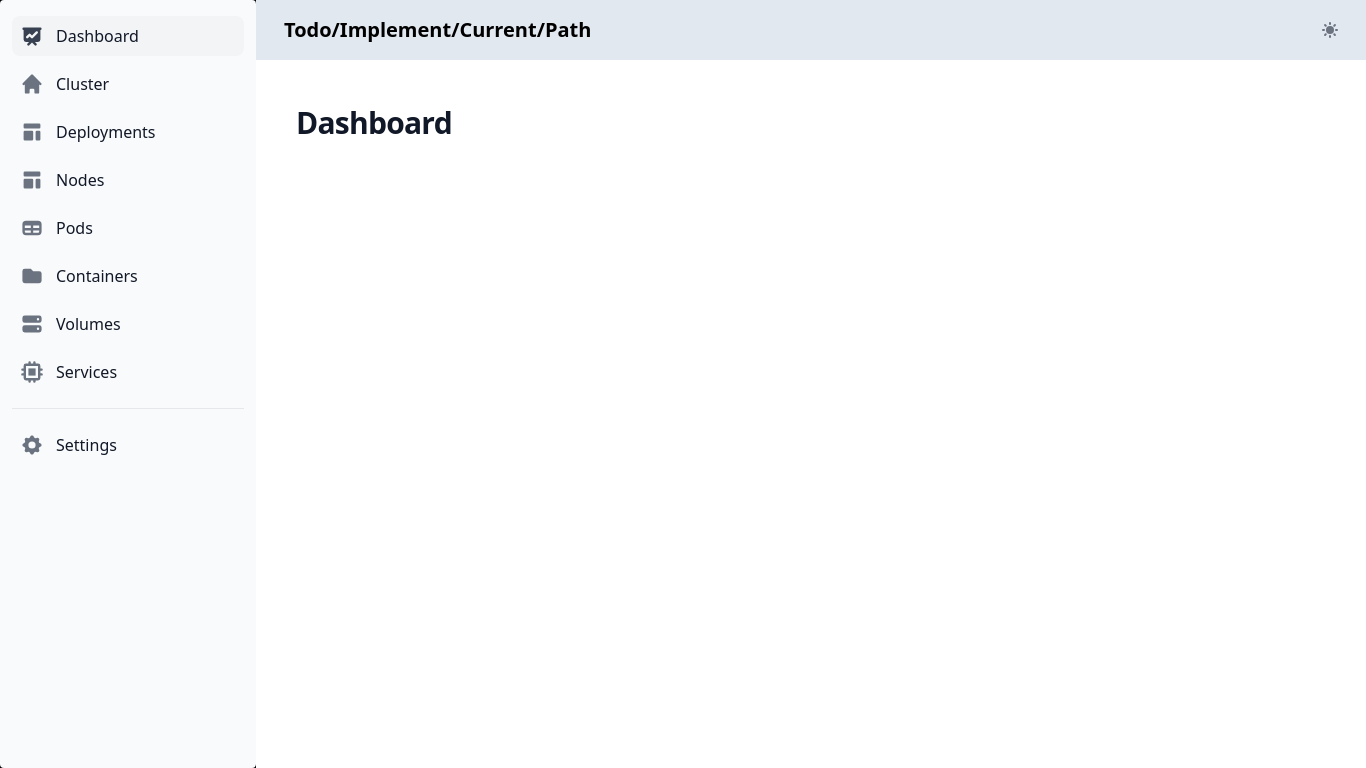
Test: Sidebar › Should navigate to the containers page
Step 1. Click the link "Containers" → (79, 276), box [20,264,138,288]
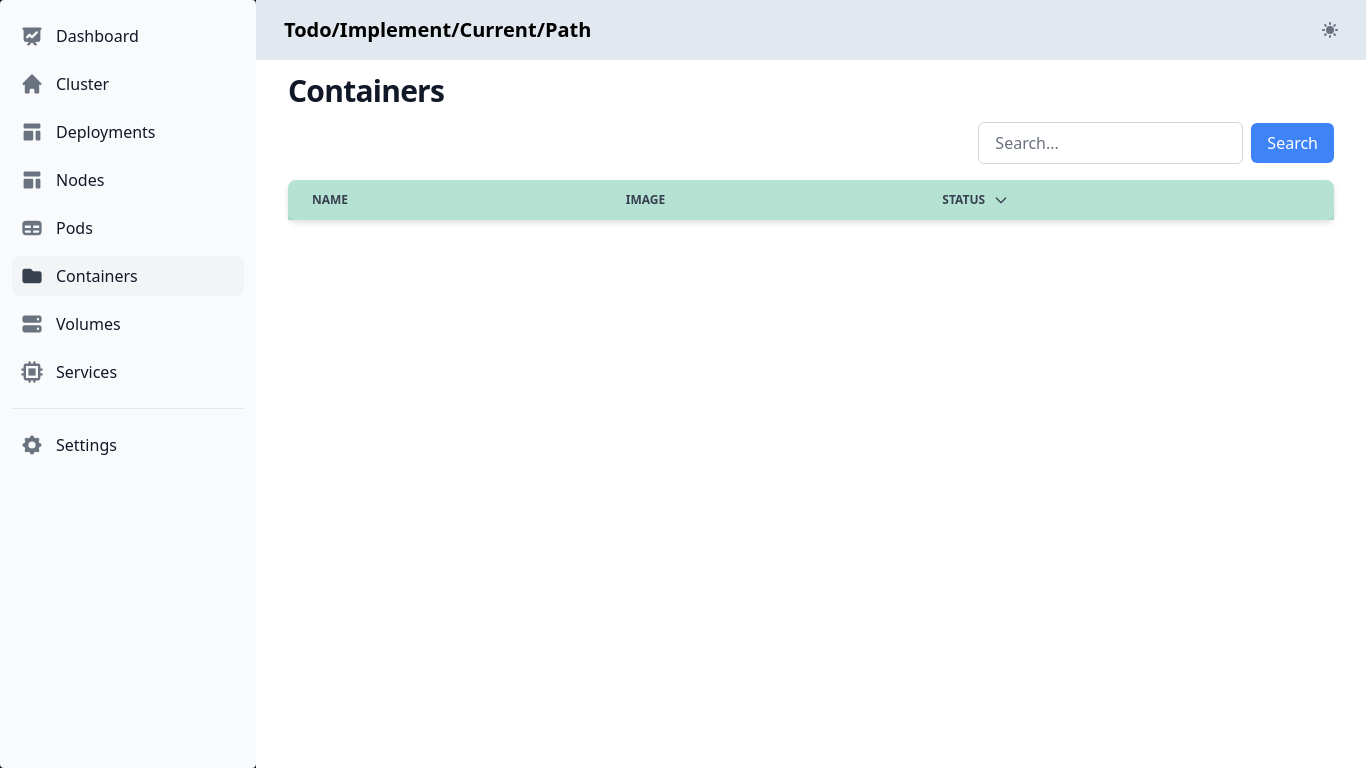
Now the heading "Containers" is shown, box [288,70,444,111]
